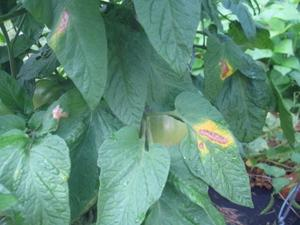Tomato Early blight leaf: (165, 87, 255, 206)
